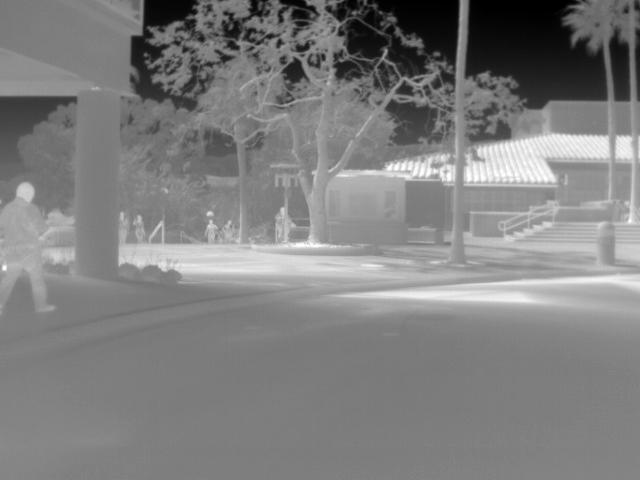person: (2, 179, 56, 315), (272, 208, 299, 243), (129, 212, 149, 244), (114, 210, 128, 244), (204, 219, 222, 245)
